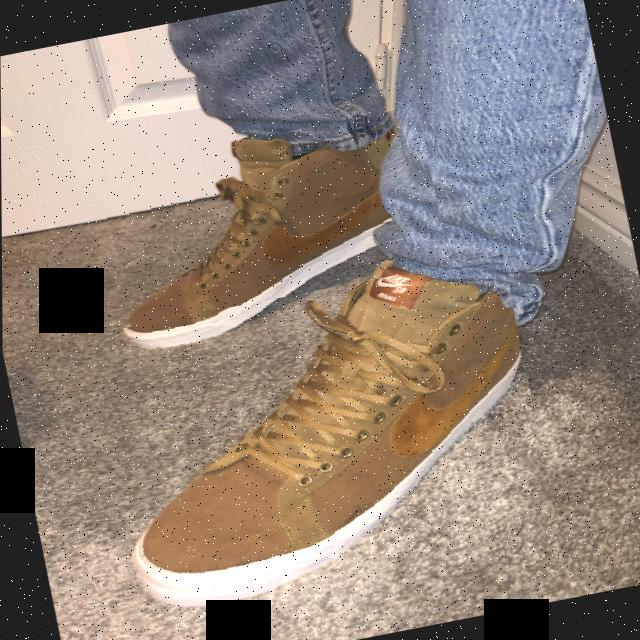shoe: (72, 254, 562, 632), (84, 106, 457, 367)
